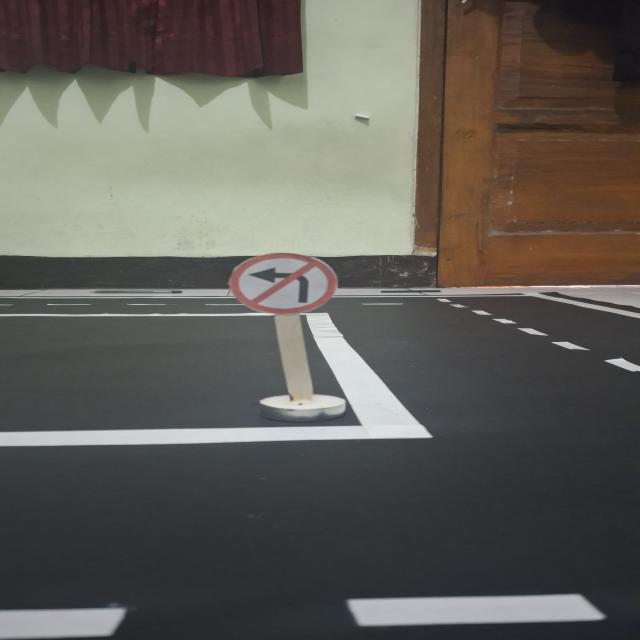Dilarang Belok Kiri: (228, 253, 338, 314)
